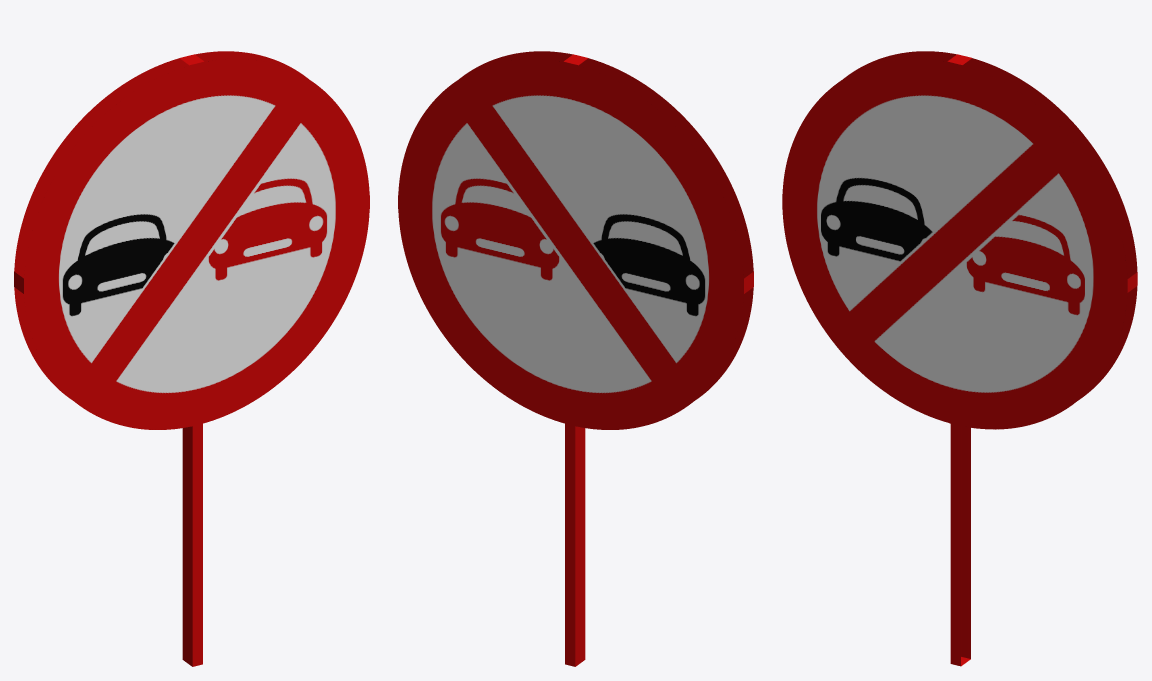
3 views of the same model, side by side, from view 1: azimuth 30°, elevation 25°; view 2: azimuth 150°, elevation 25°; view 3: azimuth 330°, elevation 25° (orthographic).
Visible parts, largest first — view 1: 1024px-Singapore_Road_Signs_-_Restrictive_Sign_-_No_overtaki; view 2: 1024px-Singapore_Road_Signs_-_Restrictive_Sign_-_No_overtaki; view 3: 1024px-Singapore_Road_Signs_-_Restrictive_Sign_-_No_overtaki.
Part boxes in pixels (x1,y1,x2,y2): 1024px-Singapore_Road_Signs_-_Restrictive_Sign_-_No_overtaki: (14, 51, 369, 666); 1024px-Singapore_Road_Signs_-_Restrictive_Sign_-_No_overtaki: (398, 51, 753, 666); 1024px-Singapore_Road_Signs_-_Restrictive_Sign_-_No_overtaki: (782, 51, 1137, 666).
Bounding box in the file's own units: 100 × 167 × 5.
